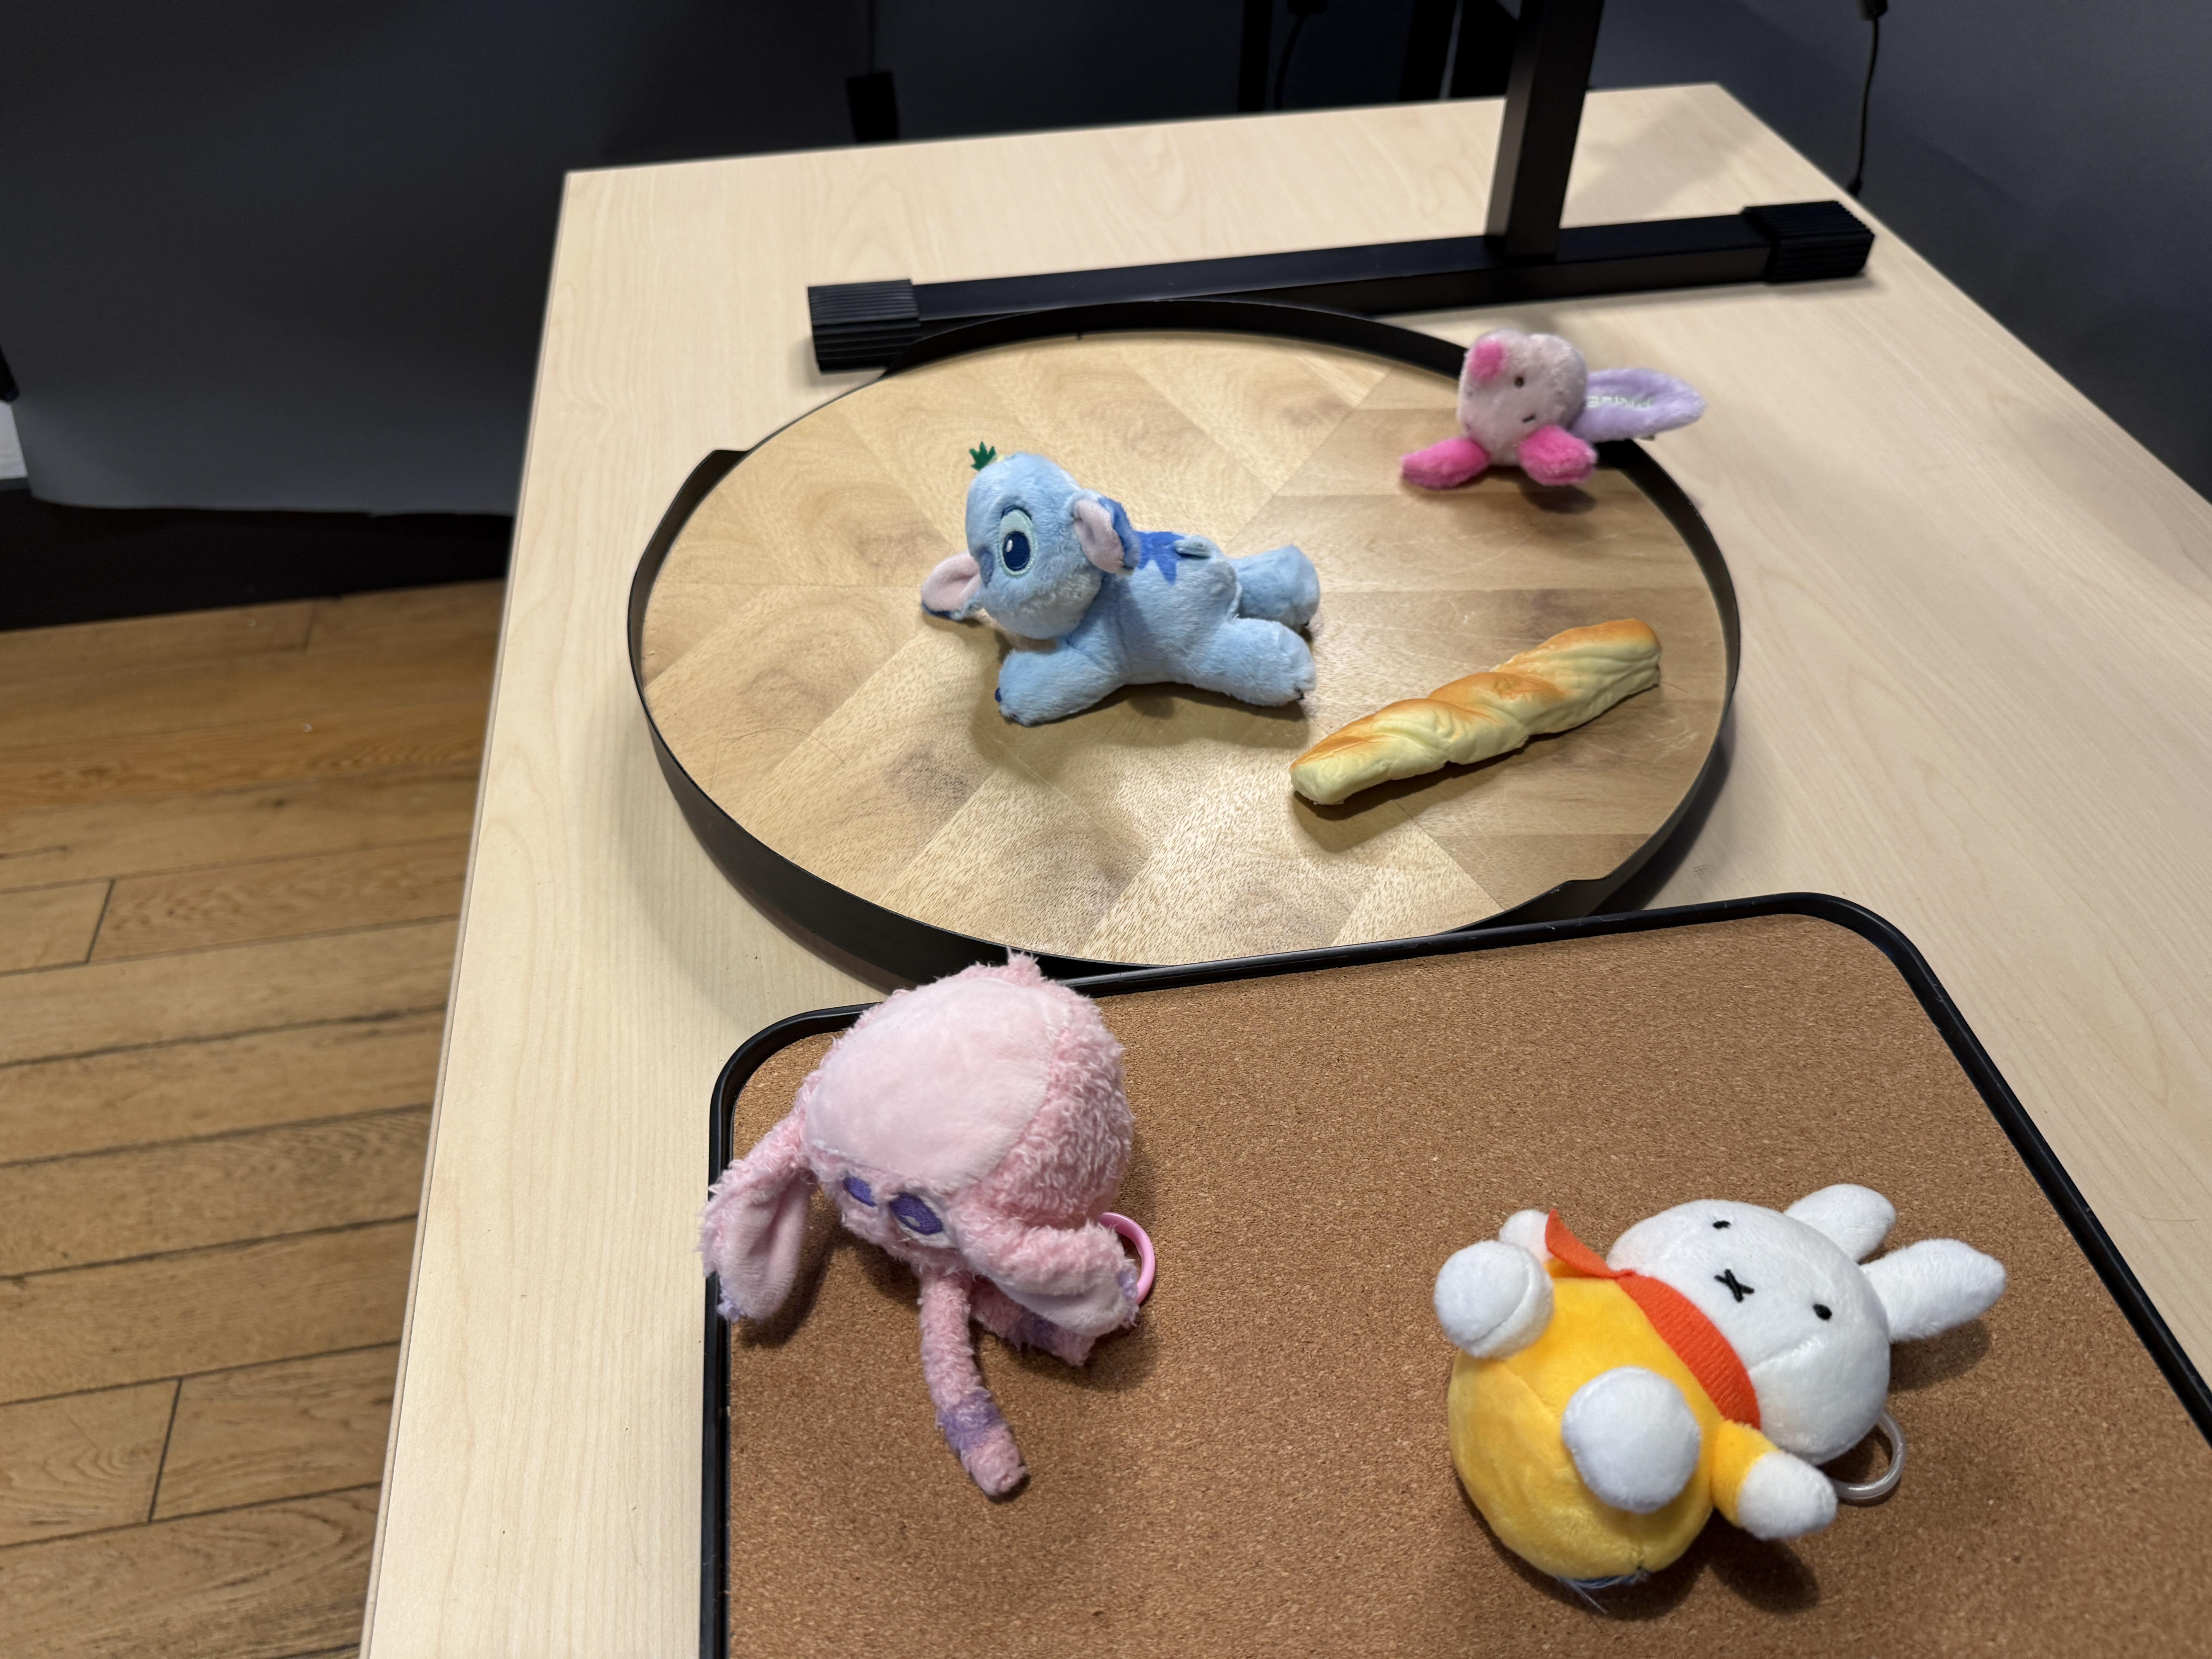bread: (1294, 615, 1663, 810)
doll: (709, 953, 1191, 1502), (1437, 1183, 2006, 1586), (918, 443, 1318, 716), (1397, 324, 1716, 490)
